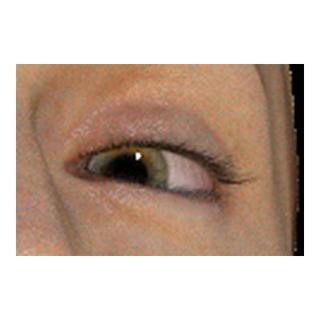pupil: (106, 154, 147, 196)
